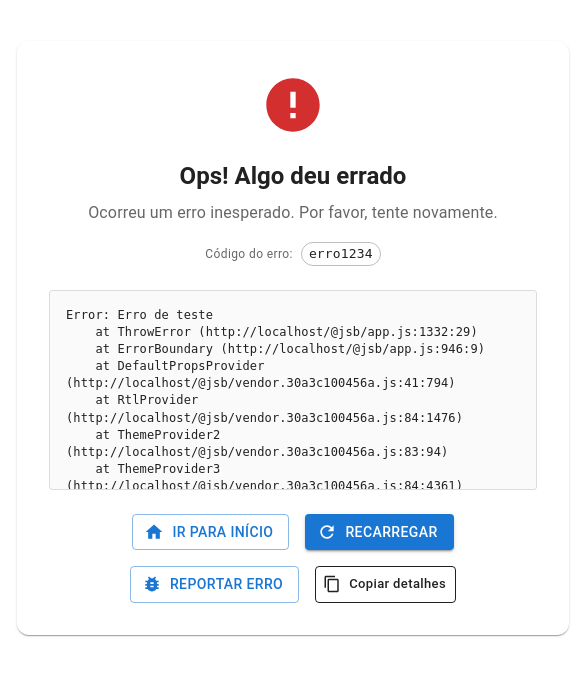
ErrorBoundary › orienta login quando usuário deslogado tenta reportar erro
Click the button "Reportar erro". click: coordinates (215, 584)
box: [130,566,299,603]
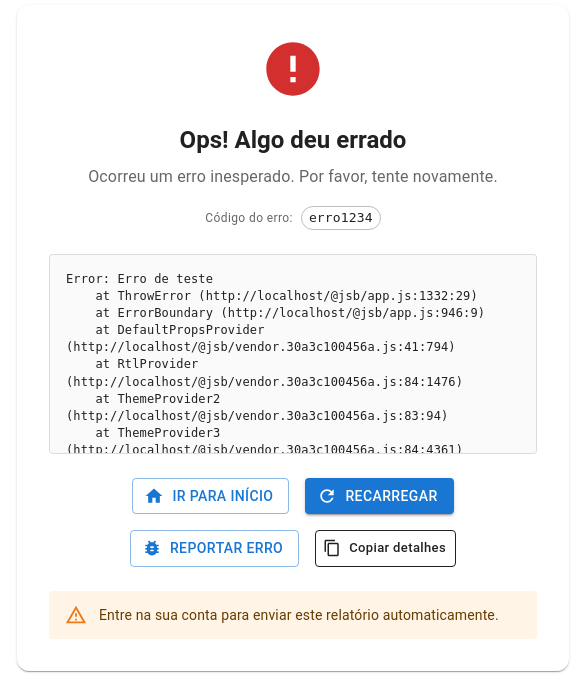
Now the text "Entre na sua conta para enviar este relatório automaticamente." is shown, box [99,607,499,623]
